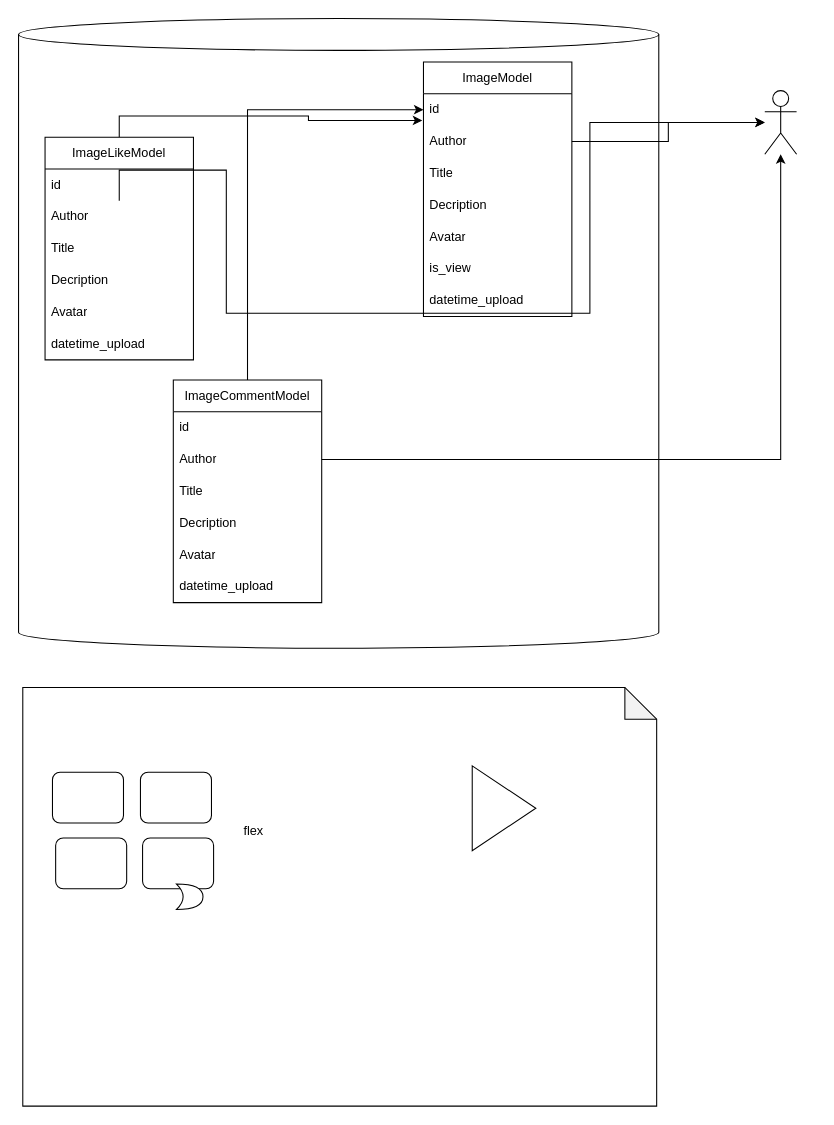
This 834x1125 diagram has some shape labels left out. Here are the shapes that lost their labels. From the top down, the centre of each, then its label:
At point 780,122: "Django.User".
At point 503,808: "form".
